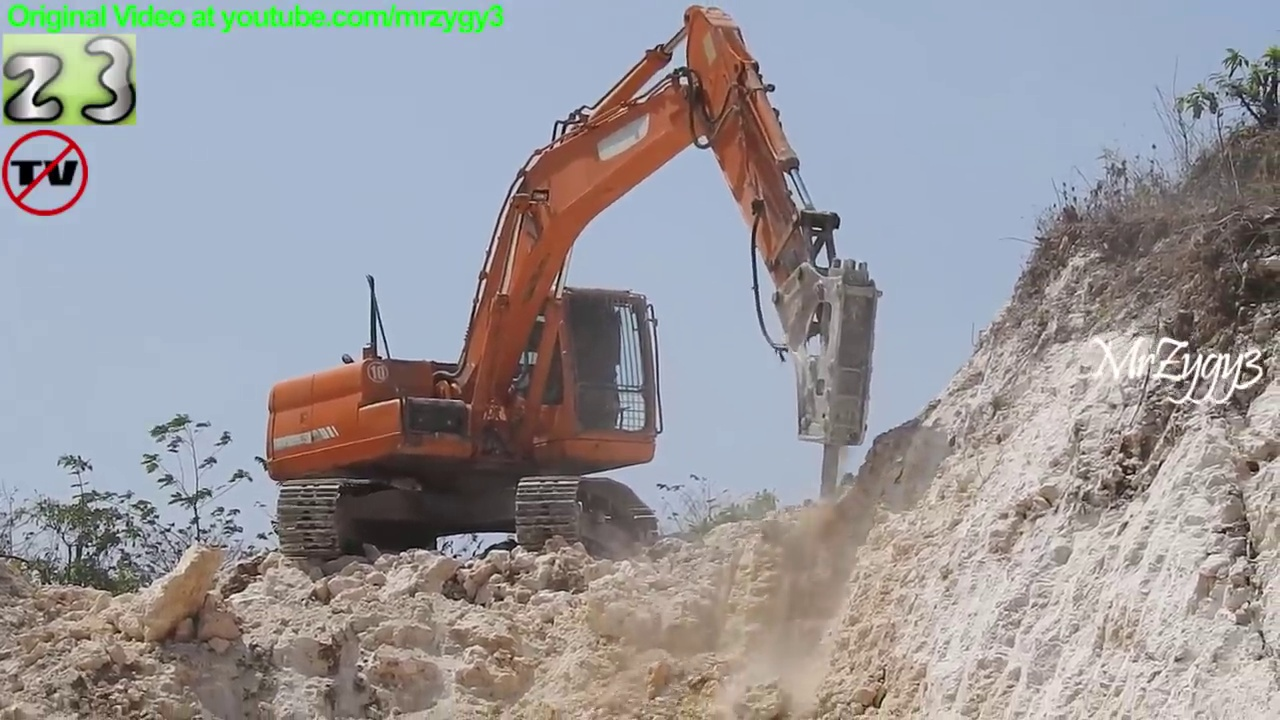excavator breaker: (254, 1, 891, 576)
